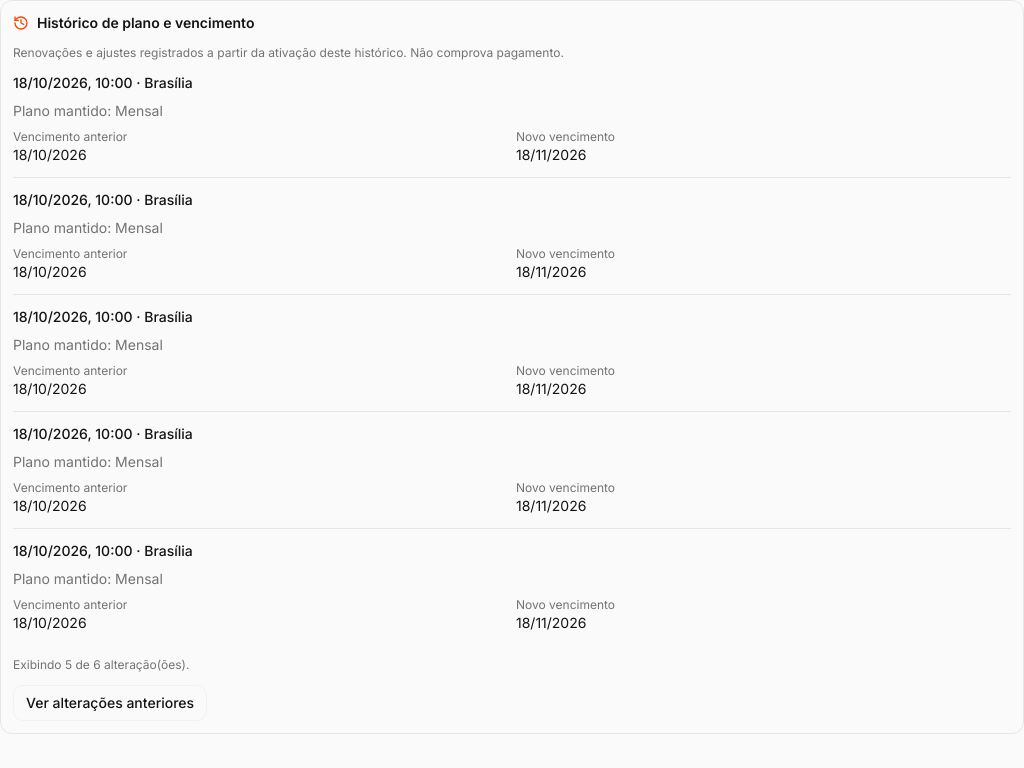
Test: plan history in the student record › loads older entries on demand and reports the full count
Expected: the text "Exibindo 5 de 6 alteração(ões)." is shown, [13,657,189,672]
Click the button "Ver alterações anteriores" at (110, 703), box [13,685,207,721]
(page scrolled)
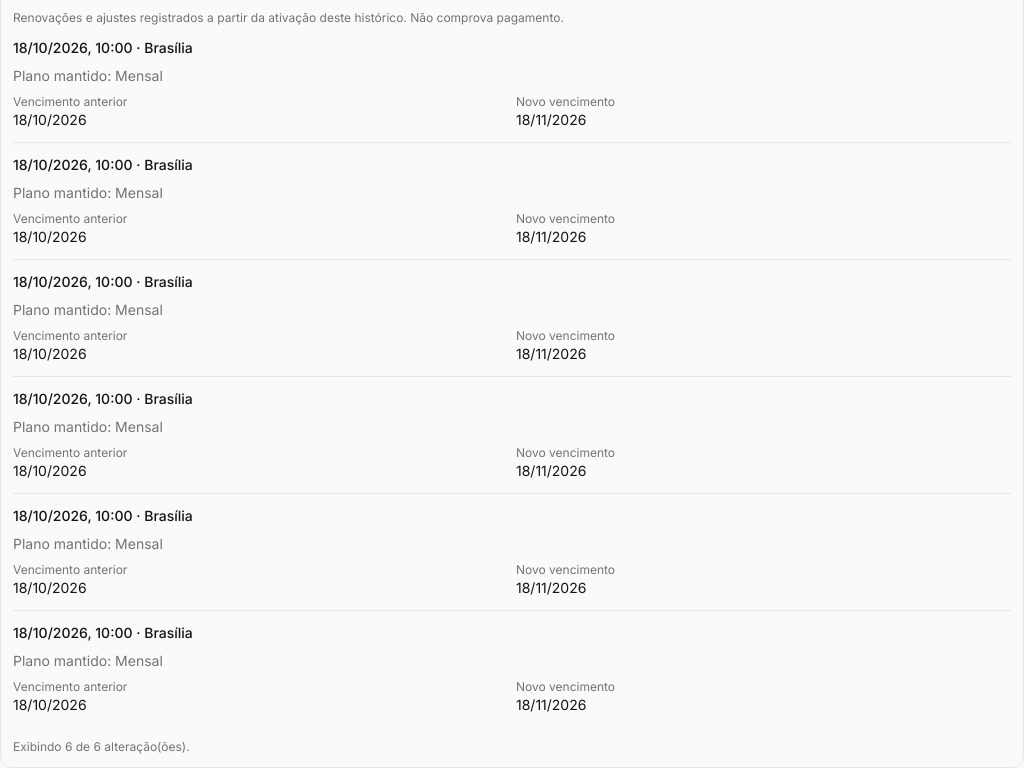
Result: the text "Exibindo 6 de 6 alteração(ões)." is shown at [13,739,190,754]
Result: the button "Ver alterações anteriores" is gone
